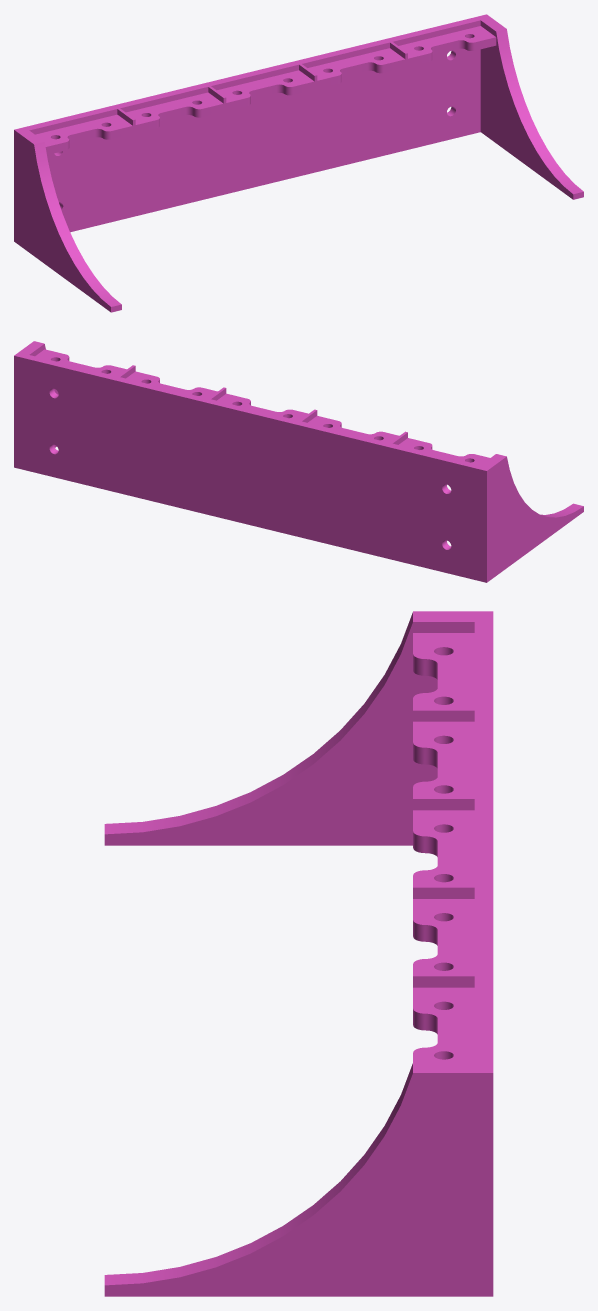
File: podstawa.obj
3 views of the same model, one above another, from view 1: azimuth 30°, elevation 25°; view 2: azimuth 150°, elevation 25°; view 3: azimuth 270°, elevation 25° (orthographic). The views are drawn at different scales.
Parts seen in each view (by area): view 1: PODSTAWA; view 2: PODSTAWA; view 3: PODSTAWA.
Part boxes in pixels (box(x1,y1,x2,y2)): PODSTAWA: box(14, 14, 583, 312); PODSTAWA: box(14, 341, 583, 582); PODSTAWA: box(104, 611, 493, 1296).
Bounding box in the file's own units: 177 × 40 × 63.
